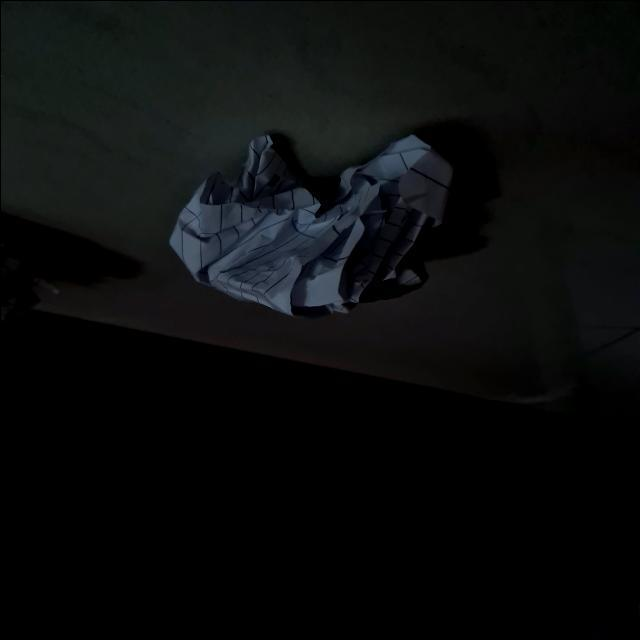Paper: (147, 129, 483, 321)
